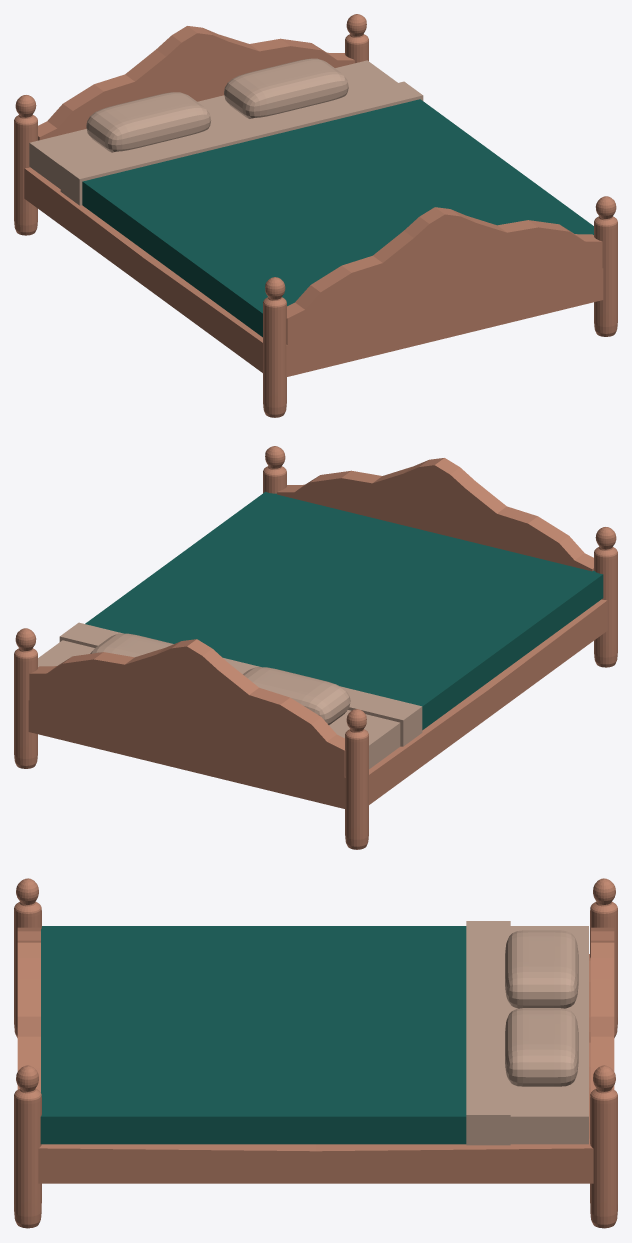
The model's file is Master_Bed.fbx.
The picture shows the model from 3 angles, top to bottom: view 1: azimuth 30°, elevation 25°; view 2: azimuth 150°, elevation 25°; view 3: azimuth 270°, elevation 25°; orthographic projection. The views are drawn at different scales.
Visible parts, largest first — view 1: Master Bed, Cylinder; view 2: Master Bed, Cylinder; view 3: Master Bed, Cylinder.
Part boxes in pixels (x1,y1,x2,y2): Master Bed: [24, 26, 603, 377]; Cylinder: [14, 14, 617, 417]; Master Bed: [28, 458, 607, 809]; Cylinder: [14, 446, 617, 849]; Master Bed: [17, 921, 614, 1183]; Cylinder: [14, 878, 617, 1228].
Size of the model in its own units: 103 by 45.7 by 132.
